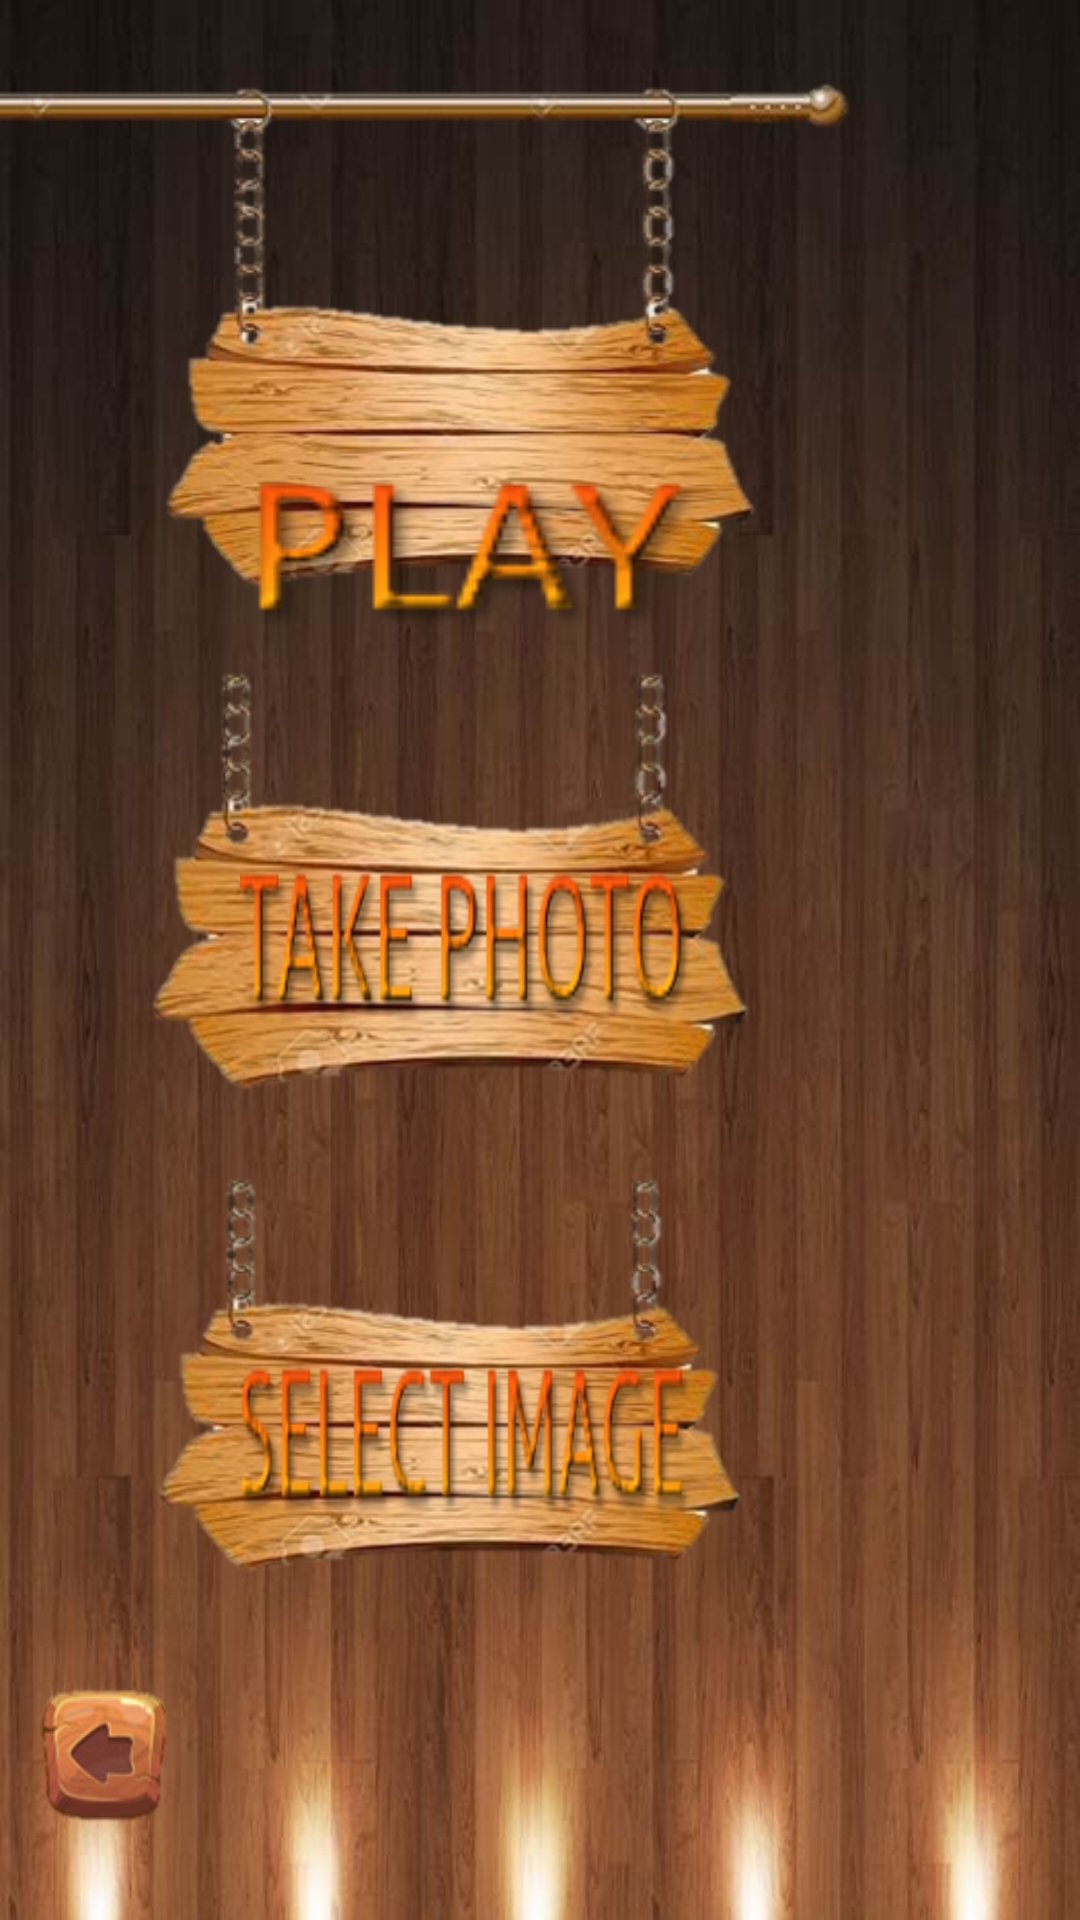

Icon click points for this 1080px x 1920px phone screenshot, format (x,y):
retour: (102,1750)
